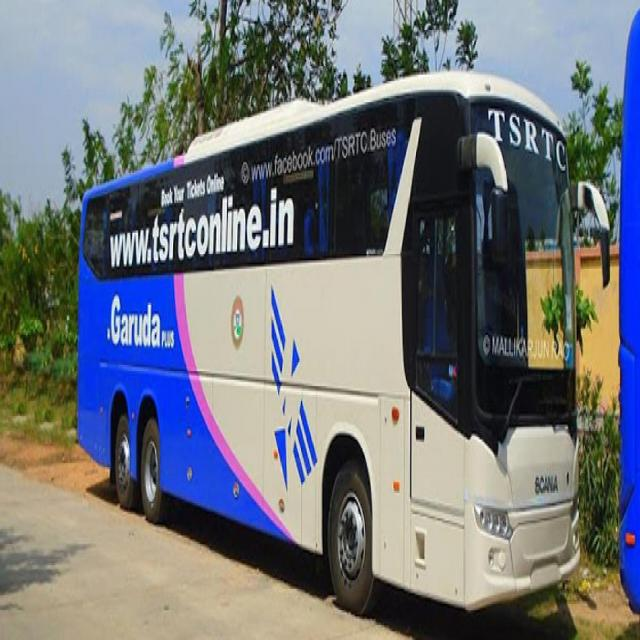BUS: (47, 86, 581, 565)
